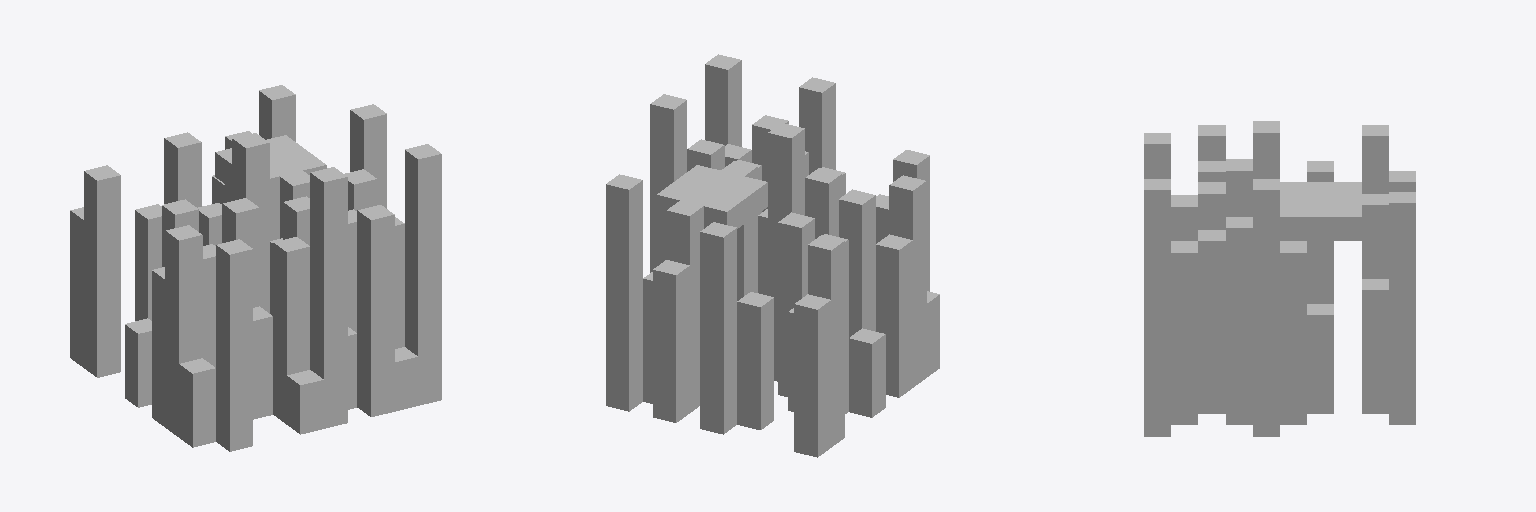
Rendered from Grass4.obj.
3 renders of one model, left to right at view 1: azimuth 30°, elevation 25°; view 2: azimuth 150°, elevation 25°; view 3: azimuth 270°, elevation 25°, orthographic.
Visible parts, largest first — view 1: object 1; view 2: object 1; view 3: object 1.
Boxes of the visible parts, x1=… form: object 1: x1=70, y1=85, x2=441, y2=451; object 1: x1=606, y1=54, x2=939, y2=457; object 1: x1=1144, y1=121, x2=1415, y2=436.
Size of the model in its own units: 1 by 1 by 1.